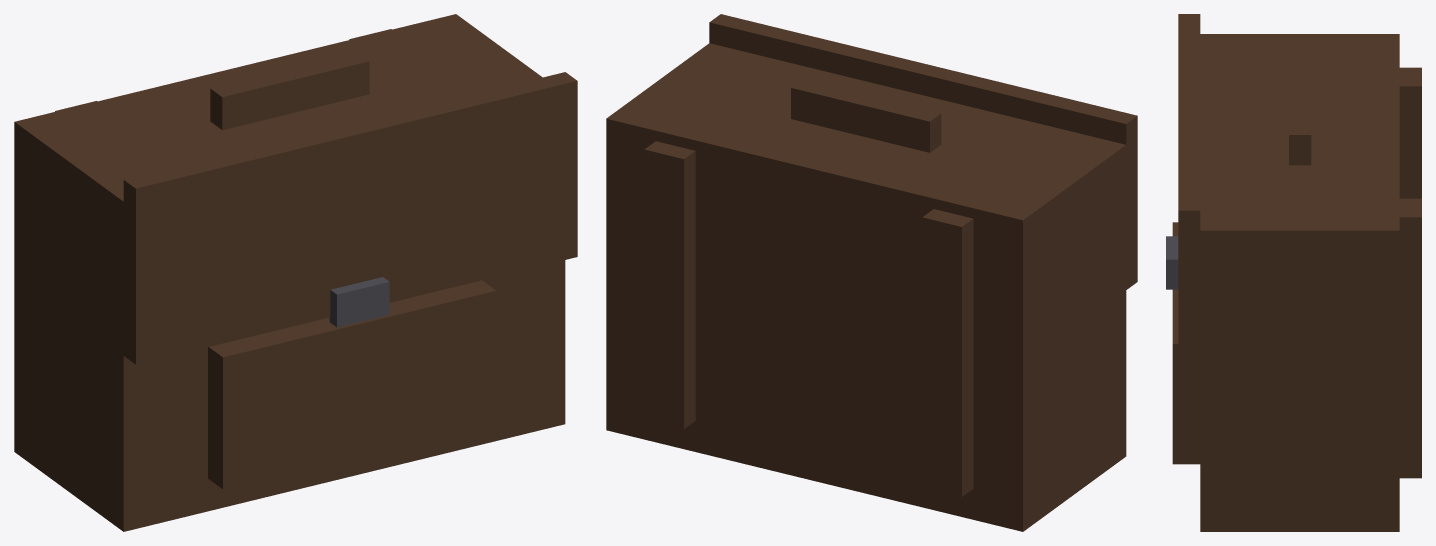
File: PRP_P0_School_Bag_A.obj
3 renders of one model, left to right at view 1: azimuth 30°, elevation 25°; view 2: azimuth 150°, elevation 25°; view 3: azimuth 270°, elevation 25°, orthographic. The views are drawn at different scales.
Parts seen in each view (by area): view 1: body, flap, pocket, handle, buckle; view 2: body, flap, strap_l, strap_r, handle; view 3: body, flap, strap_r, pocket, strap_l, handle, buckle.
Boxes of the visible parts, <box> form: body: <box>14,14,565,531</box>; flap: <box>123,72,577,364</box>; pocket: <box>208,280,496,489</box>; handle: <box>210,52,369,130</box>; buckle: <box>329,277,389,327</box>; body: <box>606,43,1126,531</box>; flap: <box>709,14,1137,289</box>; strap_l: <box>922,209,973,496</box>; strap_r: <box>644,141,695,428</box>; handle: <box>791,79,941,152</box>; body: <box>1200,34,1399,531</box>; flap: <box>1178,14,1200,371</box>; strap_r: <box>1399,198,1421,478</box>; pocket: <box>1172,222,1200,464</box>; strap_l: <box>1399,67,1421,198</box>; handle: <box>1289,69,1311,165</box>; buckle: <box>1166,236,1178,289</box>.
Size of the model in its own units: 0.42 by 0.33 by 0.231.
